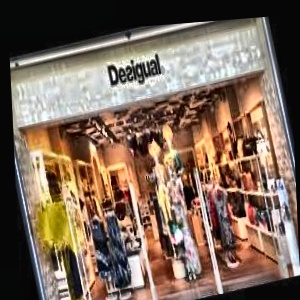desigual: (119, 32, 212, 62)
